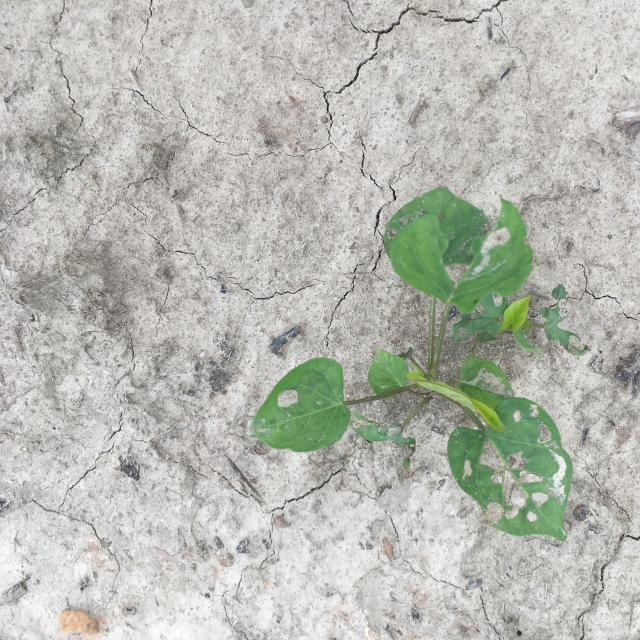MorningGlory: (246, 187, 590, 541)
